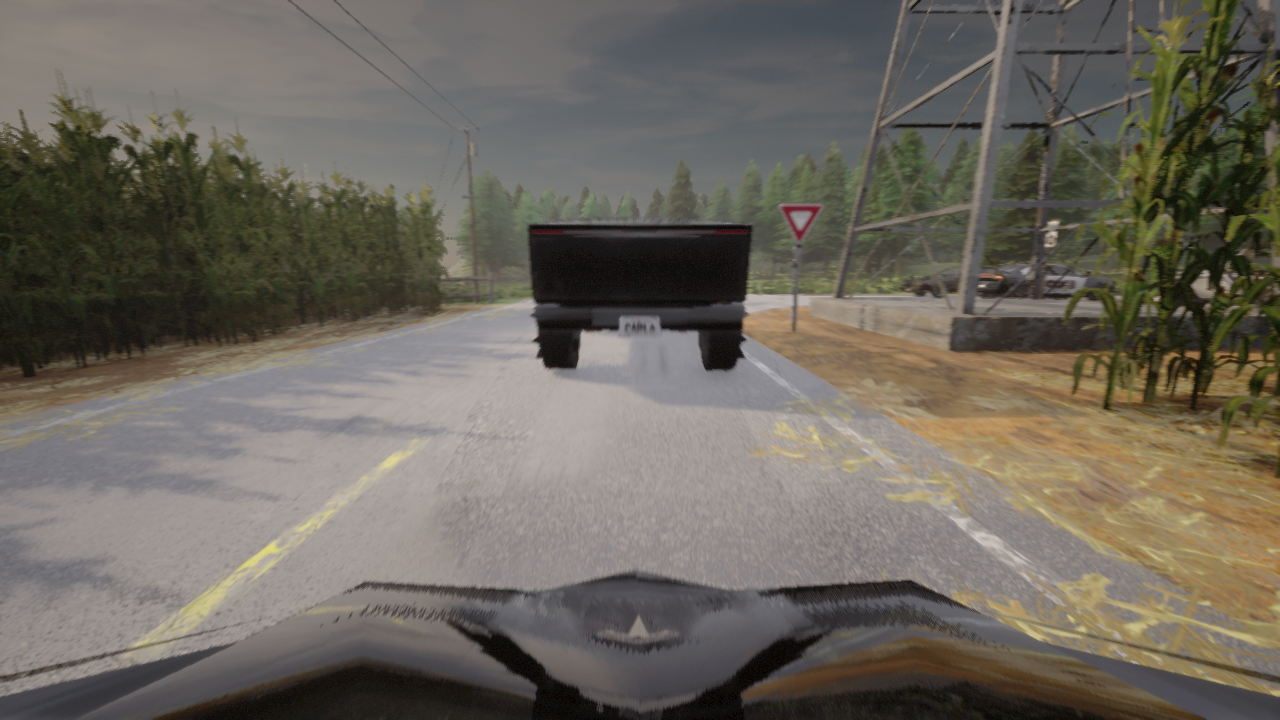cyclist: (0, 569, 1279, 719), (528, 218, 751, 371), (1143, 242, 1272, 306), (976, 261, 1116, 300), (900, 266, 1002, 296)
